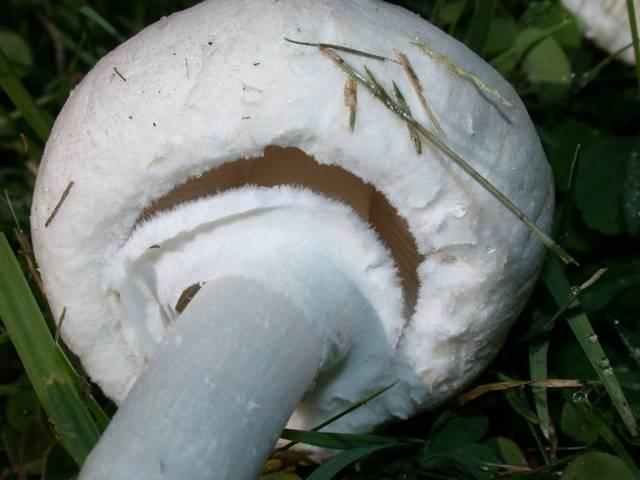Non-edible Mushroom: (27, 0, 557, 478)
